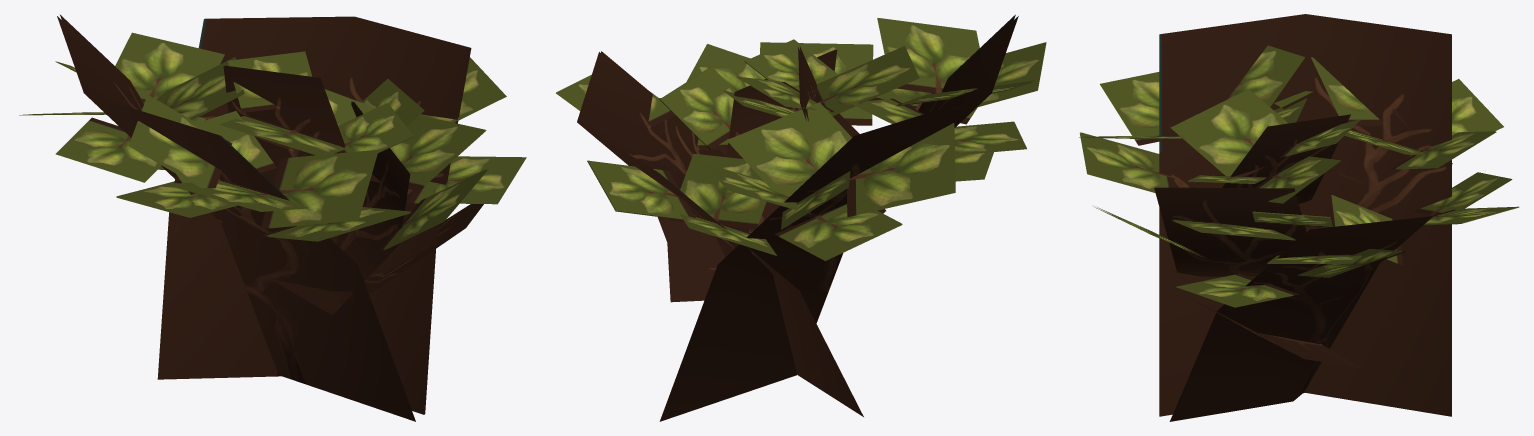
Rendered from bush_01b.fbx.
3 renders of one model, left to right at view 1: azimuth 30°, elevation 25°; view 2: azimuth 150°, elevation 25°; view 3: azimuth 270°, elevation 25°, orthographic. The views are drawn at different scales.
Visible parts, largest first — view 1: bush_01b; view 2: bush_01b; view 3: bush_01b.
Part boxes in pixels (<box>): bush_01b: <box>19,14,526,421</box>; bush_01b: <box>556,14,1046,421</box>; bush_01b: <box>1079,14,1519,421</box>.
Size of the model in its own units: 7.09 by 5.12 by 6.94.
